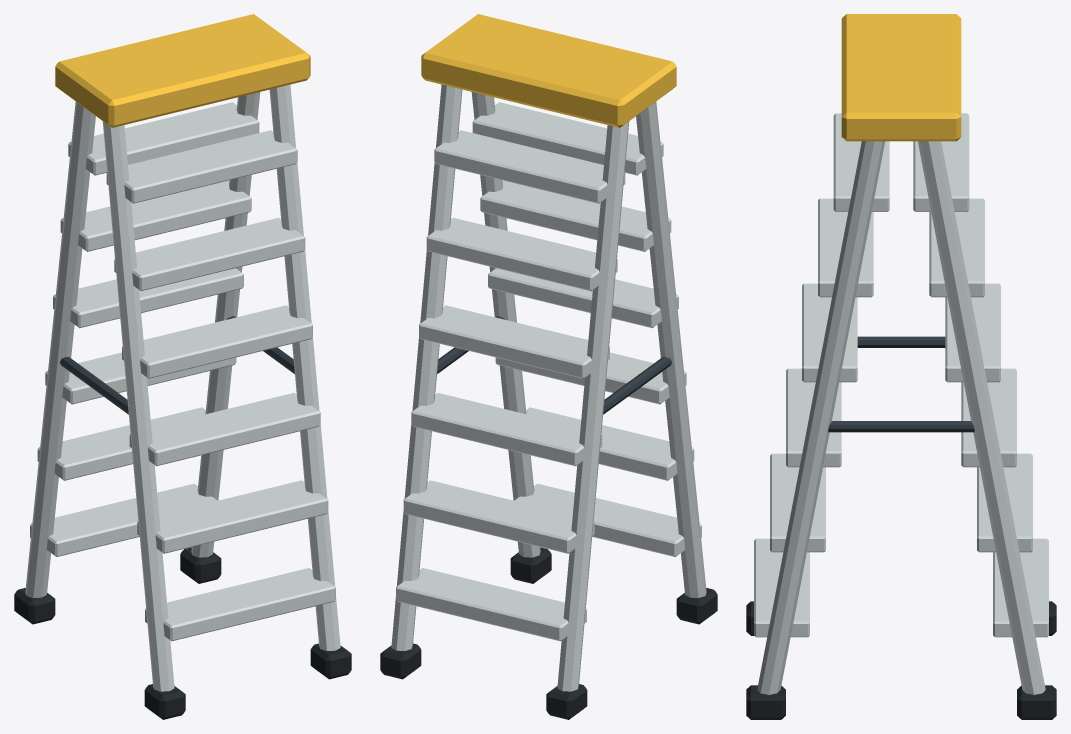
File: Ladder_Step.glb
3 renders of one model, left to right at view 1: azimuth 30°, elevation 25°; view 2: azimuth 150°, elevation 25°; view 3: azimuth 270°, elevation 25°, orthographic. The views are drawn at different scales.
Parts seen in each view (by area): view 1: Ladder_Step; view 2: Ladder_Step; view 3: Ladder_Step.
Boxes of the visible parts, box(x1,y1,x2,y2) form: Ladder_Step: box(14, 14, 351, 719); Ladder_Step: box(380, 14, 717, 719); Ladder_Step: box(746, 14, 1056, 719).
Bounding box in the file's own units: 0.61 × 1.69 × 0.78.
